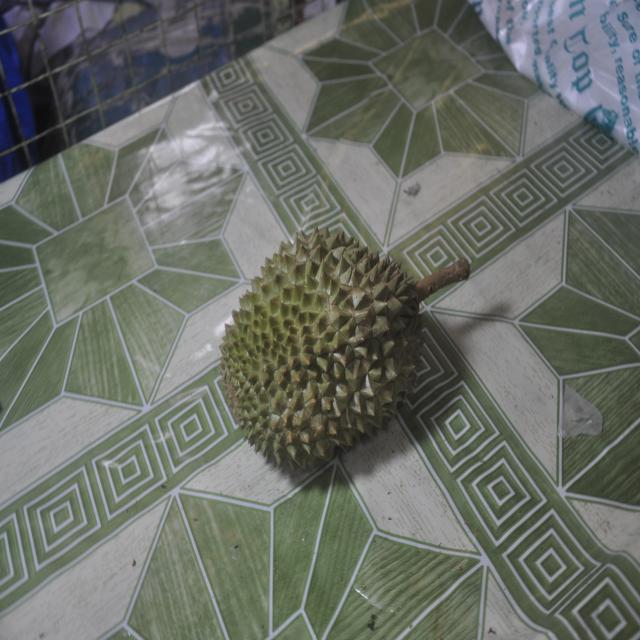mature: (220, 227, 470, 469)
